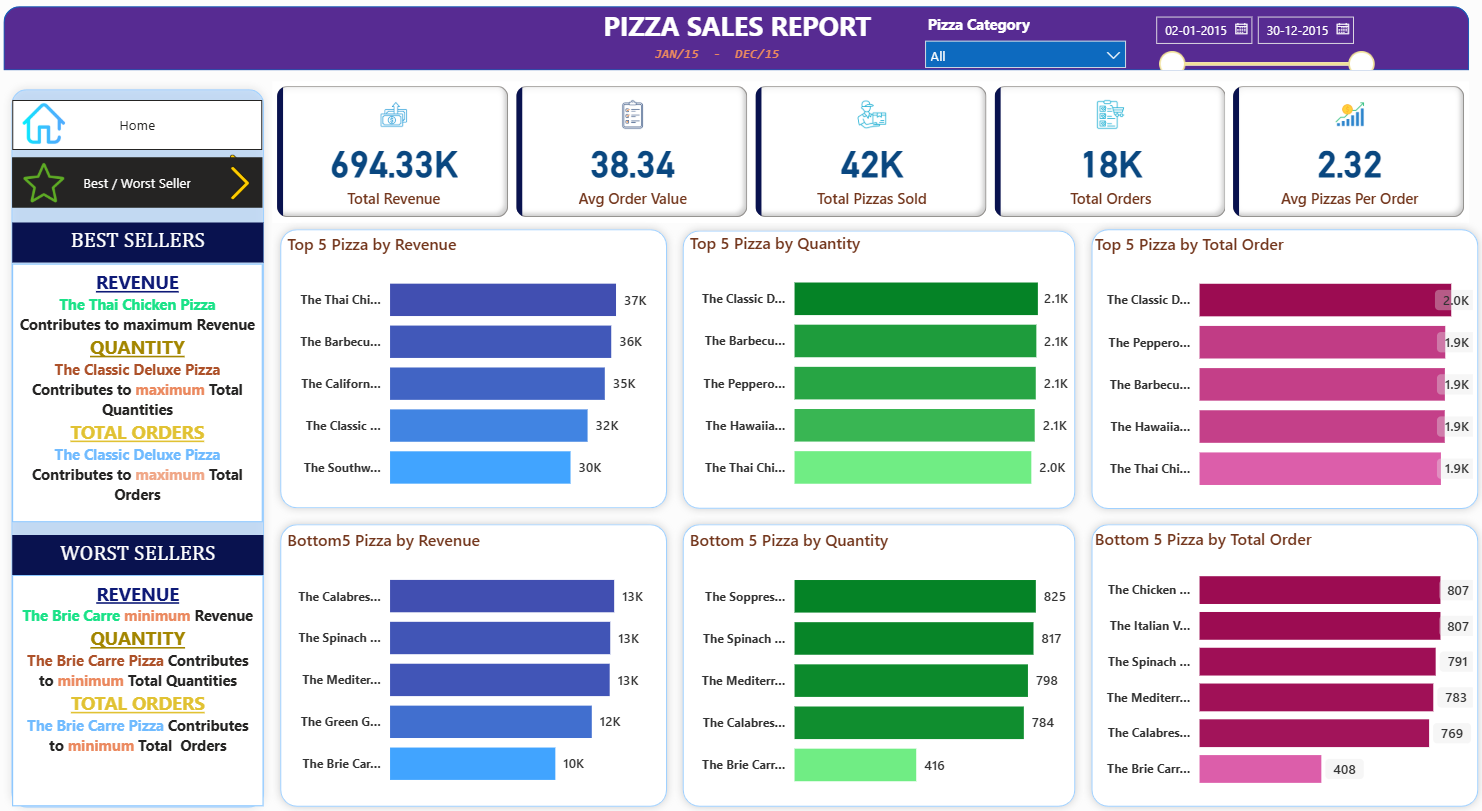

The dashboard page shown, as its layout file describes it:
{"tool":"powerbi","page":{"name":"Best / Worst Seller","canvas":[1500,820],"ordinal":1},"visuals":[{"type":"cardVisual","fields":{"Data":["pizza_sales.Total Revenue","pizza_sales.Avg Order Value","pizza_sales.Total Pizzas Sold","pizza_sales.Total Orders","pizza_sales.Avg Pizzas Per Order"]},"box":[285.7,85.7,1197.1,141.4],"z":0},{"type":"shape","box":[17.1,11.4,1465.7,64.3],"z":1000},{"type":"textbox","box":[605.7,7.1,290,48.6],"z":2000},{"type":"textbox","box":[664.3,44.3,147.1,31.4],"z":3000},{"type":"shape","box":[285.7,225.7,402.9,295],"z":4000},{"type":"shape","box":[17.1,85.7,268.6,734.3],"z":5000},{"type":"textbox","box":[25.7,227.1,251.4,40],"z":6000},{"type":"textbox","box":[26.3,268.7,250.5,258.6],"z":7000},{"type":"textbox","box":[25.7,540,251.4,40],"z":8000},{"type":"textbox","box":[25.7,580,251.4,231.4],"z":9000},{"type":"slicer","fields":{"Values":["pizza_sales.order_date"]},"box":[1157.8,11.1,238.9,64.4],"z":10000},{"type":"slicer","fields":{"Values":["pizza_sales.pizza_category"]},"box":[928.6,14.3,221.4,61.4],"z":11000},{"type":"shape","box":[688.6,227.1,408.6,294.3],"z":12000},{"type":"shape","box":[285.7,521.4,402.9,298.6],"z":13000},{"type":"shape","box":[1097.1,225.7,402.9,295.7],"z":14000},{"type":"shape","box":[688.6,521.4,408.6,298.6],"z":15000},{"type":"shape","box":[1097.1,521.4,402.9,298.6],"z":16000},{"type":"barChart","title":"Top 5 Pizza by Revenue ","fields":{"Category":["pizza_sales.pizza_name"],"Y":["pizza_sales.Total Revenue"]},"box":[295.7,237.1,381.4,274.3],"z":17000},{"type":"barChart","title":"Bottom5 Pizza by Revenue ","fields":{"Category":["pizza_sales.pizza_name"],"Y":["pizza_sales.Total Revenue"]},"box":[295.7,534.3,381.4,274.3],"z":18000},{"type":"barChart","title":"Top 5 Pizza by Quantity","fields":{"Category":["pizza_sales.pizza_name"],"Y":["pizza_sales.Total Pizzas Sold"]},"box":[698.6,235.7,388.6,275.7],"z":19000},{"type":"barChart","title":"Bottom 5 Pizza by Quantity","fields":{"Category":["pizza_sales.pizza_name"],"Y":["pizza_sales.Total Pizzas Sold"]},"box":[698.6,534.3,388.6,275.7],"z":20000},{"type":"barChart","title":"Top 5 Pizza by Total Order","fields":{"Category":["pizza_sales.pizza_name"],"Y":["pizza_sales.Total Orders"]},"box":[1104.3,237.1,388.6,275.7],"z":21000},{"type":"barChart","title":"Bottom 5 Pizza by Total Order","fields":{"Category":["pizza_sales.pizza_name"],"Y":["pizza_sales.Total Orders"]},"box":[1104.3,532.9,388.6,275.7],"z":22000},{"type":"pageNavigator","box":[26.3,105.1,250.5,50.5],"z":23000},{"type":"image","box":[226.3,155.6,58.6,50.5],"z":24000},{"type":"pageNavigator","box":[25.9,162.2,250.7,50.4],"z":25000},{"type":"image","box":[233,162.2,43.6,50.4],"z":26000},{"type":"image","box":[26.3,103,62.6,52.5],"z":27000},{"type":"image","box":[25.9,162.2,62.7,50.4],"z":28000}]}

Visuals, with their boxes in screenshot pixels (x1, y1, x2, y2), scaled from the page's 1500x820 canvas onto the 1482x811 screenshot:
cardVisual - pizza_sales.Total Revenue x pizza_sales.Avg Order Value: x1=282, y1=85, x2=1465, y2=225
shape: x1=17, y1=11, x2=1465, y2=75
textbox: x1=598, y1=7, x2=885, y2=55
textbox: x1=656, y1=44, x2=802, y2=75
shape: x1=282, y1=223, x2=680, y2=515
shape: x1=17, y1=85, x2=282, y2=810
textbox: x1=25, y1=225, x2=274, y2=264
textbox: x1=26, y1=266, x2=273, y2=522
textbox: x1=25, y1=534, x2=274, y2=574
textbox: x1=25, y1=574, x2=274, y2=802
slicer - pizza_sales.order_date: x1=1144, y1=11, x2=1380, y2=75
slicer - pizza_sales.pizza_category: x1=917, y1=14, x2=1136, y2=75
shape: x1=680, y1=225, x2=1084, y2=516
shape: x1=282, y1=516, x2=680, y2=810
shape: x1=1084, y1=223, x2=1481, y2=516
shape: x1=680, y1=516, x2=1084, y2=810
shape: x1=1084, y1=516, x2=1481, y2=810
"Top 5 Pizza by Revenue " barChart: x1=292, y1=234, x2=669, y2=506
"Bottom5 Pizza by Revenue " barChart: x1=292, y1=528, x2=669, y2=800
"Top 5 Pizza by Quantity" barChart: x1=690, y1=233, x2=1074, y2=506
"Bottom 5 Pizza by Quantity" barChart: x1=690, y1=528, x2=1074, y2=801
"Top 5 Pizza by Total Order" barChart: x1=1091, y1=234, x2=1475, y2=507
"Bottom 5 Pizza by Total Order" barChart: x1=1091, y1=527, x2=1475, y2=800
pageNavigator: x1=26, y1=104, x2=273, y2=154
image: x1=224, y1=154, x2=281, y2=204
pageNavigator: x1=26, y1=160, x2=273, y2=210
image: x1=230, y1=160, x2=273, y2=210
image: x1=26, y1=102, x2=88, y2=154
image: x1=26, y1=160, x2=88, y2=210
